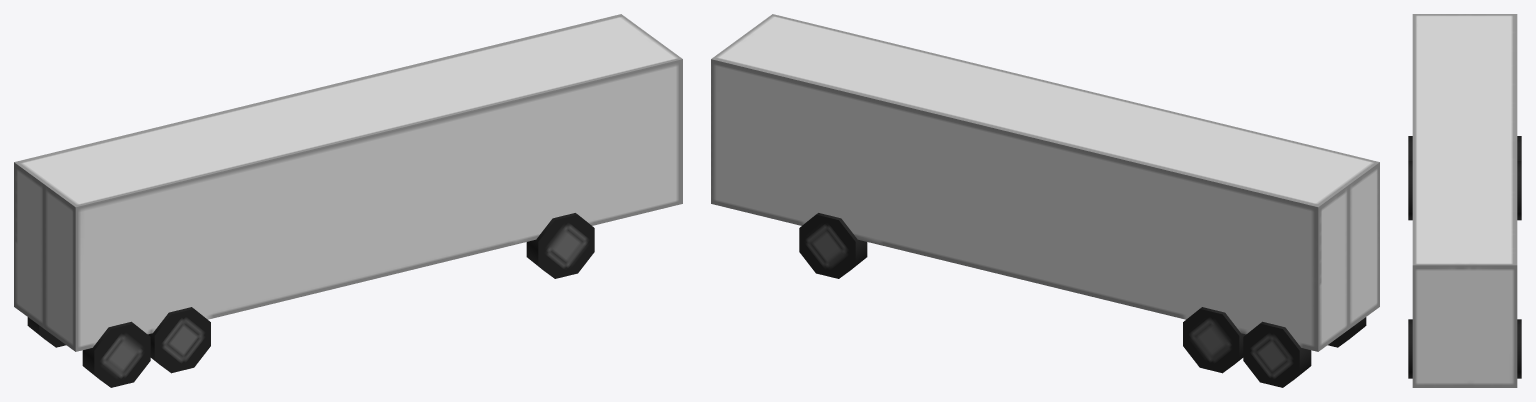
The model's file is SemiTruckTrailer.glb.
3 renders of one model, left to right at view 1: azimuth 30°, elevation 25°; view 2: azimuth 150°, elevation 25°; view 3: azimuth 270°, elevation 25°, orthographic. The views are drawn at different scales.
Parts seen in each view (by area): view 1: SemiTruckTrailer; view 2: SemiTruckTrailer; view 3: SemiTruckTrailer.
Boxes of the visible parts, bbox=[...] form: SemiTruckTrailer: bbox=[14, 14, 682, 387]; SemiTruckTrailer: bbox=[711, 14, 1379, 387]; SemiTruckTrailer: bbox=[1408, 14, 1521, 387].
Size of what is drawn, in the model's own units: 11.37 by 3.34 by 2.16.
Materials: 1 (1 with a texture image).
